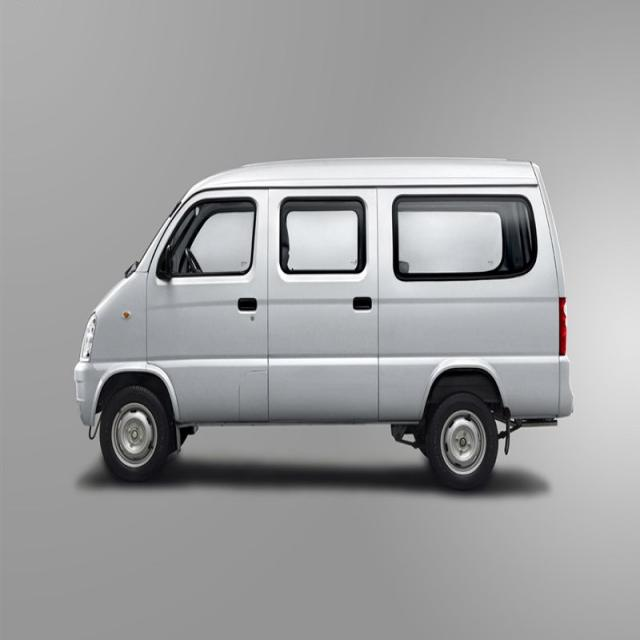back_left_side_light: (556, 290, 570, 364)
door: (270, 183, 382, 423)
front_bumper: (65, 356, 114, 436)
front_left_side_door: (142, 176, 272, 430)
front_left_side_light: (76, 307, 102, 369)
front_left_side_mirror: (158, 235, 183, 282)
rear_bumper: (547, 359, 586, 422)
wheel: (426, 386, 500, 490), (101, 382, 170, 484)
